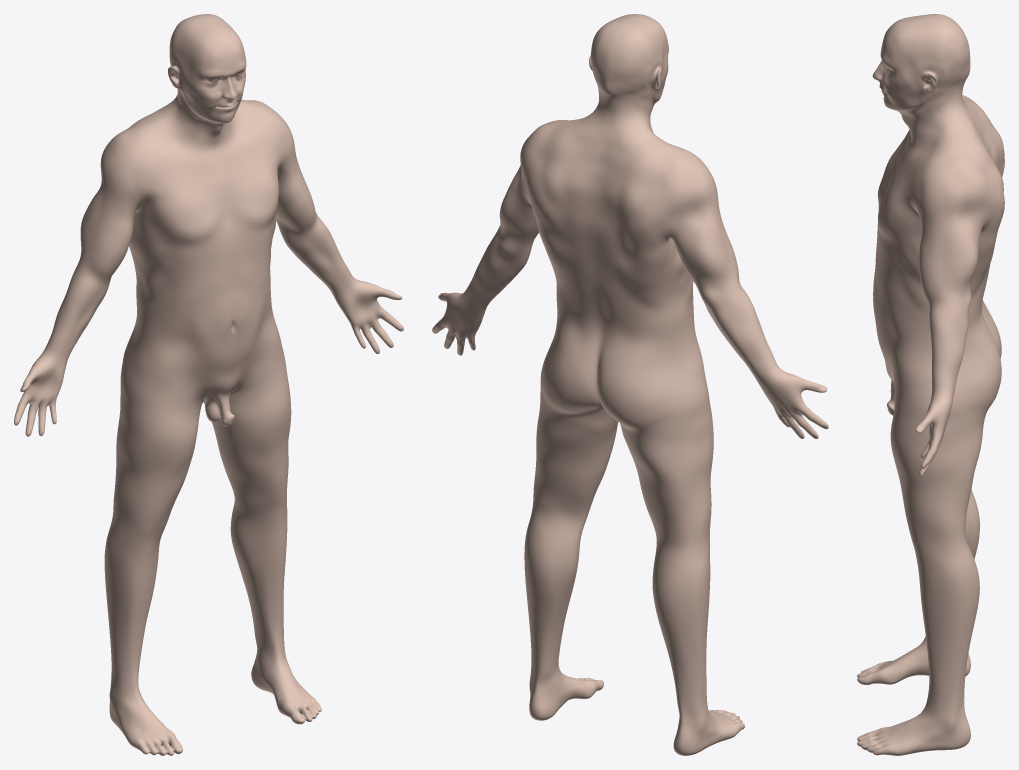
File: VHM_Skin_Med.glb
3 renders of one model, left to right at view 1: azimuth 30°, elevation 25°; view 2: azimuth 150°, elevation 25°; view 3: azimuth 270°, elevation 25°, orthographic.
Parts seen in each view (by area): view 1: VHM_Skin_Med; view 2: VHM_Skin_Med; view 3: VHM_Skin_Med.
Boxes of the visible parts, x1,y1,x2,y2 form: VHM_Skin_Med: (14,14,403,755); VHM_Skin_Med: (432,14,828,755); VHM_Skin_Med: (857,14,1004,755).
Bounding box in the file's own units: 1.32 × 2.25 × 0.433.
